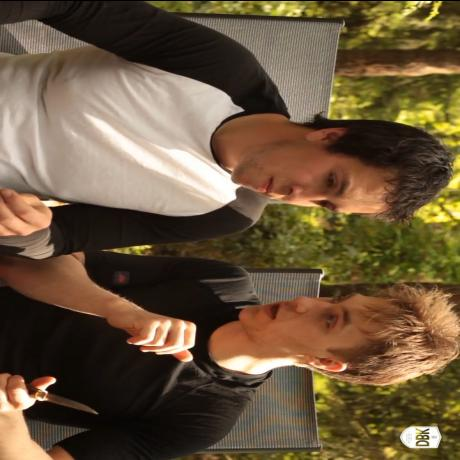1: (0, 0, 458, 256), (0, 250, 460, 459)
weapon: (32, 386, 100, 416)
